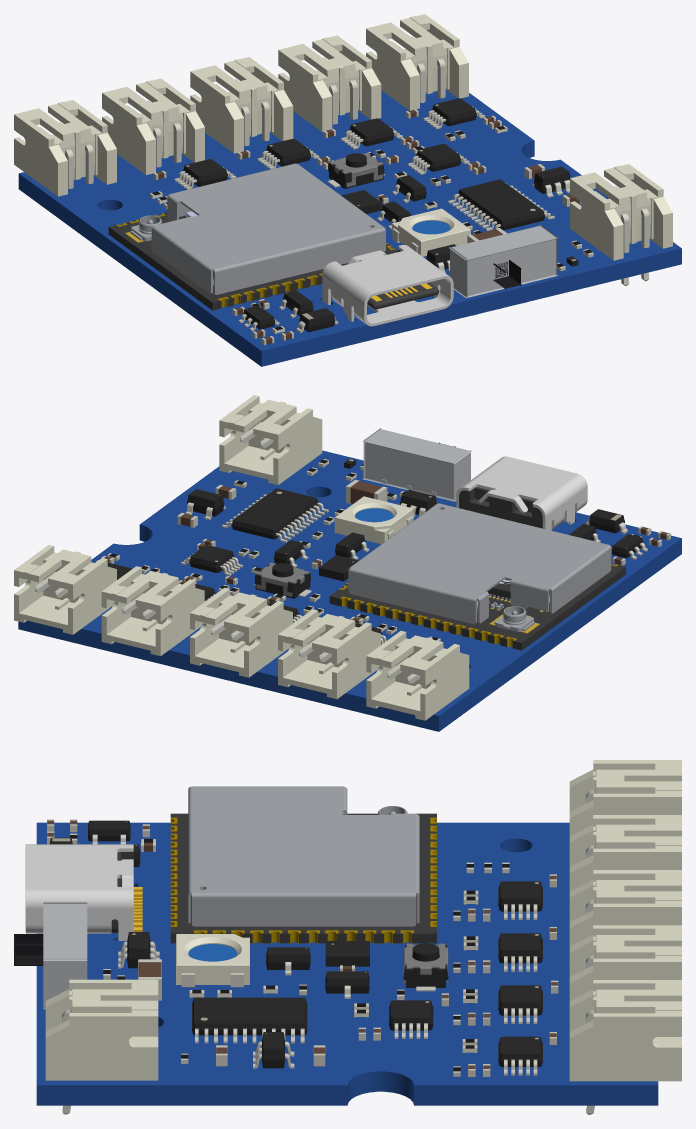
The model's file is bluebuzzah-v3-pcb.glb.
The picture shows the model from 3 angles, top to bottom: view 1: azimuth 30°, elevation 25°; view 2: azimuth 150°, elevation 25°; view 3: azimuth 270°, elevation 25°; orthographic projection. The views are drawn at different scales.
Parts seen in each view (by area): view 1: BlueBuzzah_v3_PCB, ShieldBox_ESP32-S3-WROOM-1U_V1.1_20211014.step_2, USB-C_SMD-TYPE-C-31-M-12, JST_S2B_PH_K005, JST_S2B_PH_K002, JST_S2B_PH_K004, JST_S2B_PH_K003, JST_S2B_PH_K, JST_S2B_PH_K001, sw-body, TSSOP-24_4.4x7.8mm_P0.65mm, uid__2428^DesignRootModel_ESP32-S3-WROOM-1U(2)_ESP32-S3-WROO (+14 smaller); view 2: BlueBuzzah_v3_PCB, ShieldBox_ESP32-S3-WROOM-1U_V1.1_20211014.step_2, JST_S2B_PH_K005, JST_S2B_PH_K002, USB-C_SMD-TYPE-C-31-M-12, JST_S2B_PH_K004, JST_S2B_PH_K, JST_S2B_PH_K003, JST_S2B_PH_K001, sw-body, uid__2428^DesignRootModel_ESP32-S3-WROOM-1U(2)_ESP32-S3-WROO, TSSOP-24_4.4x7.8mm_P0.65mm (+12 smaller); view 3: BlueBuzzah_v3_PCB, ShieldBox_ESP32-S3-WROOM-1U_V1.1_20211014.step_2, JST_S2B_PH_K005, JST_S2B_PH_K001, USB-C_SMD-TYPE-C-31-M-12, JST_S2B_PH_K003, JST_S2B_PH_K, JST_S2B_PH_K002, JST_S2B_PH_K004, uid__2428^DesignRootModel_ESP32-S3-WROOM-1U(2)_ESP32-S3-WROO, TSSOP-24_4.4x7.8mm_P0.65mm, sw-body (+15 smaller).
Part boxes in pixels (box(x1,y1,x2,y2)): BlueBuzzah_v3_PCB: box(18, 89, 681, 366); ShieldBox_ESP32-S3-WROOM-1U_V1.1_20211014.step_2: box(151, 163, 385, 294); USB-C_SMD-TYPE-C-31-M-12: box(322, 245, 453, 326); JST_S2B_PH_K005: box(570, 164, 672, 285); JST_S2B_PH_K002: box(14, 100, 116, 196); JST_S2B_PH_K004: box(278, 35, 381, 132); JST_S2B_PH_K003: box(190, 57, 293, 153); JST_S2B_PH_K: box(102, 78, 204, 174); JST_S2B_PH_K001: box(366, 14, 468, 110); sw-body: box(449, 224, 558, 298); TSSOP-24_4.4x7.8mm_P0.65mm: box(448, 179, 554, 230); uid__2428^DesignRootModel_ESP32-S3-WROOM-1U(2)_ESP32-S3-WROO: box(108, 212, 397, 310); BlueBuzzah_v3_PCB: box(18, 450, 681, 731); ShieldBox_ESP32-S3-WROOM-1U_V1.1_20211014.step_2: box(348, 503, 611, 624); JST_S2B_PH_K005: box(219, 395, 322, 484); JST_S2B_PH_K002: box(366, 631, 469, 720); USB-C_SMD-TYPE-C-31-M-12: box(456, 456, 587, 530); JST_S2B_PH_K004: box(101, 566, 204, 656); JST_S2B_PH_K: box(278, 609, 380, 699); JST_S2B_PH_K003: box(190, 587, 292, 677); JST_S2B_PH_K001: box(14, 545, 116, 634); sw-body: box(362, 428, 471, 501); uid__2428^DesignRootModel_ESP32-S3-WROOM-1U(2)_ESP32-S3-WROO: box(329, 565, 625, 650); TSSOP-24_4.4x7.8mm_P0.65mm: box(222, 488, 328, 542); BlueBuzzah_v3_PCB: box(36, 822, 658, 1105); ShieldBox_ESP32-S3-WROOM-1U_V1.1_20211014.step_2: box(188, 786, 419, 926); JST_S2B_PH_K005: box(45, 979, 158, 1114); JST_S2B_PH_K001: box(569, 980, 681, 1114); USB-C_SMD-TYPE-C-31-M-12: box(25, 844, 142, 940); JST_S2B_PH_K003: box(569, 870, 681, 946); JST_S2B_PH_K: box(569, 815, 681, 890); JST_S2B_PH_K002: box(569, 760, 681, 835); JST_S2B_PH_K004: box(569, 925, 681, 1000); uid__2428^DesignRootModel_ESP32-S3-WROOM-1U(2)_ESP32-S3-WROO: box(170, 813, 436, 943); TSSOP-24_4.4x7.8mm_P0.65mm: box(192, 997, 307, 1043); sw-body: box(43, 902, 87, 1009).
Size of the model in its own units: 0.042 by 0.00825 by 0.0451.
